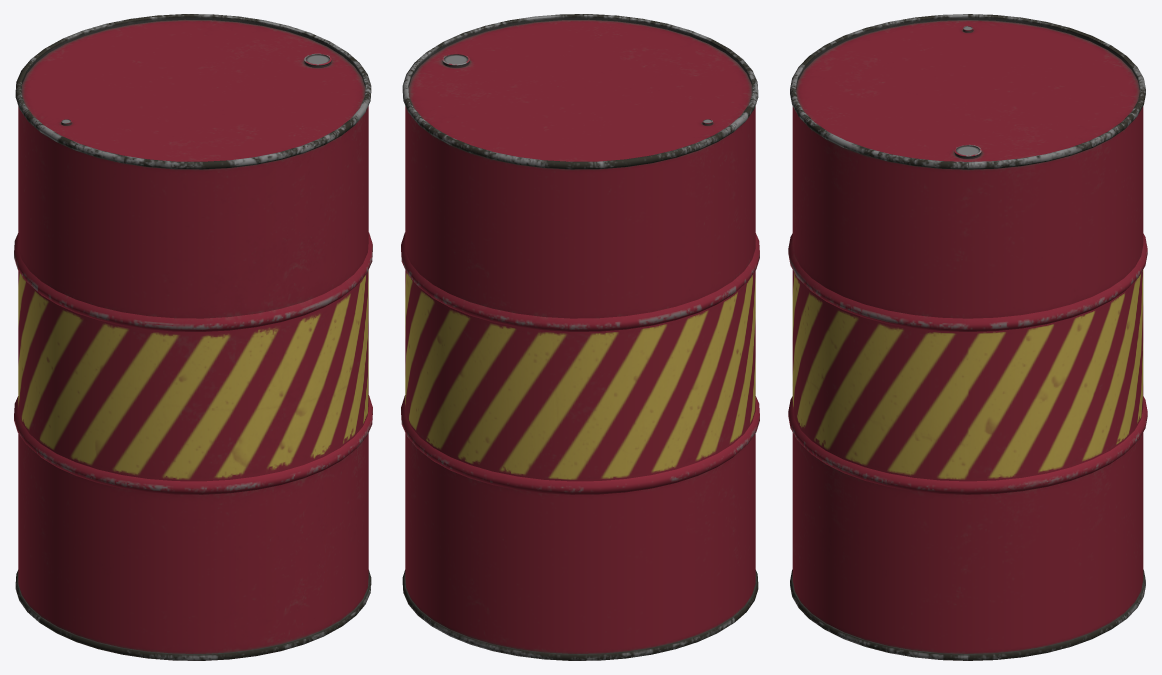
The model's file is SM_Barrel_01.fbx.
3 views of the same model, side by side, from view 1: azimuth 30°, elevation 25°; view 2: azimuth 150°, elevation 25°; view 3: azimuth 270°, elevation 25° (orthographic).
Parts seen in each view (by area): view 1: SM_Barrel_01_LOD0; view 2: SM_Barrel_01_LOD0; view 3: SM_Barrel_01_LOD0.
Part boxes in pixels (x1,y1,x2,y2): SM_Barrel_01_LOD0: (14,14,372,660); SM_Barrel_01_LOD0: (401,14,759,660); SM_Barrel_01_LOD0: (788,14,1147,660).
Bounding box in the file's own units: 63.93 × 63.93 × 97.91.
Materials: 1 (1 with a texture image).
